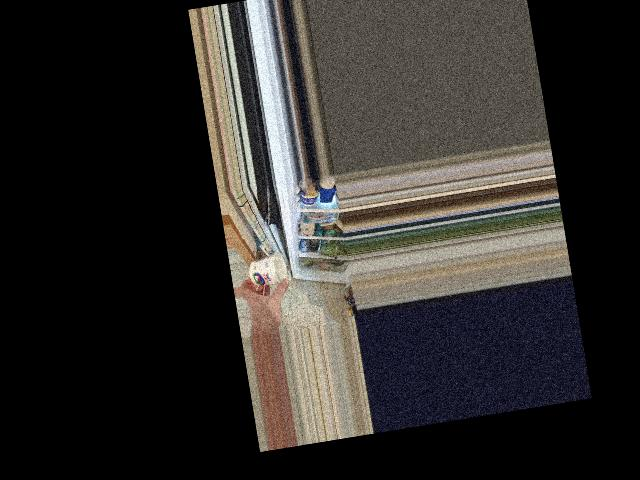cotage: (245, 252, 289, 289)
